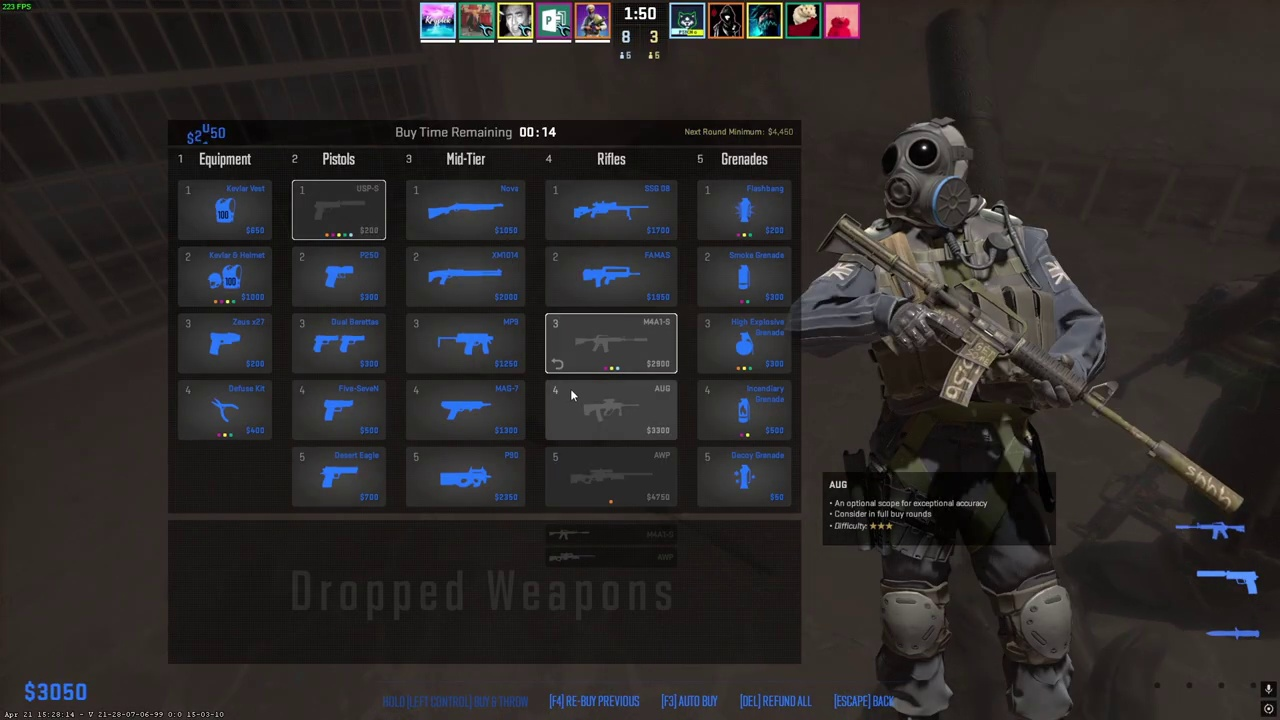CT: (855, 123, 1086, 720)
